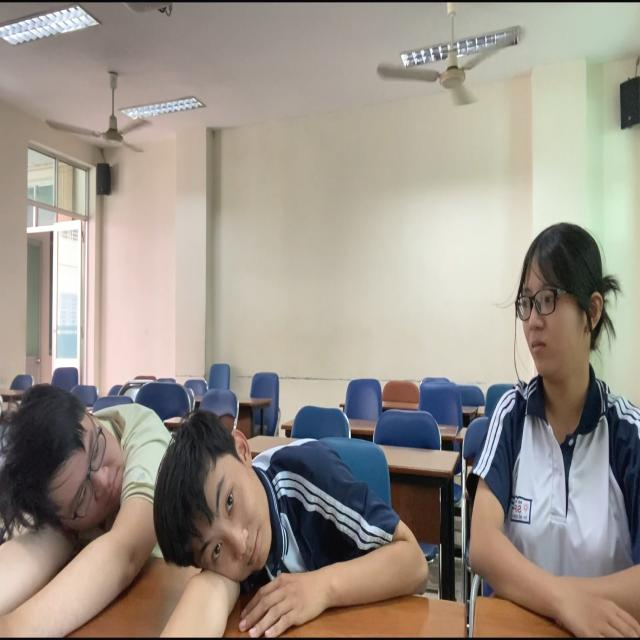sleep: (150, 407, 410, 640), (1, 379, 169, 609)
